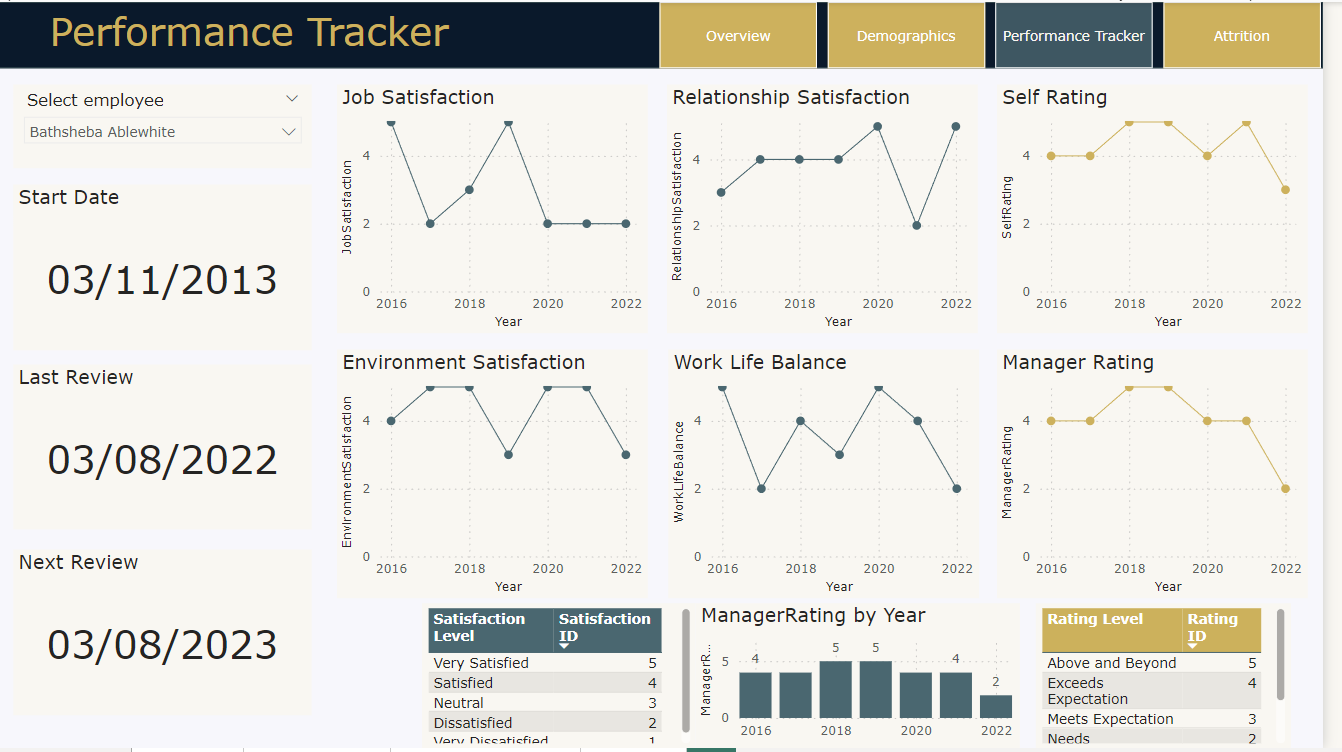

What the dashboard file says about the page in this screenshot:
{"tool":"powerbi","page":{"name":"Performance Tracker","canvas":[1280,720],"ordinal":2},"visuals":[{"type":"shape","box":[0,0,1280,64],"z":0},{"type":"textbox","box":[32,0,624,64],"z":1000},{"type":"pageNavigator","box":[640,0,640,64],"z":2000},{"type":"slicer","fields":{"Values":["DimEmployee.FullName"]},"box":[15.7,79.6,288.3,80.8],"z":3000},{"type":"card","title":"Start Date","fields":{"Values":["DimEmployee.HireDate"]},"box":[16,176,288,160],"z":4000},{"type":"card","title":"Last Review","fields":{"Values":["_Measures.LastReviewDate"]},"box":[15.7,349.9,288.3,159.3],"z":5000},{"type":"card","title":"Next Review","fields":{"Values":["_Measures.NextReviewDate"]},"box":[16,528,288,160],"z":6000},{"type":"lineChart","title":"Job Satisfaction","fields":{"Y":["_Measures.JobSatisfaction"],"Category":["DimDate.Year"]},"box":[328.3,79.8,300,240.3],"z":7000},{"type":"lineChart","title":"Relationship Satisfaction","fields":{"Y":["_Measures.RelationshipSatisfaction"],"Category":["DimDate.Year"]},"box":[646.9,79.8,300,240.3],"z":8000},{"type":"lineChart","title":"Self Rating","fields":{"Y":["_Measures.SelfRating"],"Category":["DimDate.Year"]},"box":[965.5,79.8,299.7,240.3],"z":9000},{"type":"lineChart","title":"Work Life Balance","fields":{"Y":["_Measures.WorkLifeBalance"],"Category":["DimDate.Year"]},"box":[647.4,335.5,299.7,240.3],"z":10000},{"type":"lineChart","title":"Manager Rating","fields":{"Y":["_Measures.ManagerRating"],"Category":["DimDate.Year"]},"box":[965.5,335.5,299.7,240.3],"z":11000},{"type":"lineChart","title":"Environment Satisfaction","fields":{"Y":["_Measures.EnvironmentSatisfaction"],"Category":["DimDate.Year"]},"box":[328.3,335.5,300,240.3],"z":12000},{"type":"tableEx","fields":{"Values":["DimRatingLevel.RatingLevel","DimRatingLevel.RatingID"]},"box":[1002.6,580.3,246.1,139.9],"z":13000},{"type":"tableEx","fields":{"Values":["DimSatisfiedLevel.SatisfactionLevel","DimSatisfiedLevel.SatisfactionID"]},"box":[410.2,580.3,264.2,139.9],"z":14000},{"type":"clusteredColumnChart","fields":{"Y":["_Measures.ManagerRating"],"Category":["DimDate.Year"]},"box":[674.4,580.3,312.5,139.9],"z":15000}]}

Visuals, with their boxes in screenshot pixels (x1, y1, x2, y2), scaled from the page's 1280x720 canvas onto the 1342x752 screenshot:
shape: 0,0,1341,67
textbox: 34,0,688,67
pageNavigator: 671,0,1341,67
slicer - DimEmployee.FullName: 16,83,319,168
"Start Date" card: 17,184,319,351
"Last Review" card: 16,365,319,532
"Next Review" card: 17,551,319,719
"Job Satisfaction" lineChart: 344,83,659,334
"Relationship Satisfaction" lineChart: 678,83,993,334
"Self Rating" lineChart: 1012,83,1326,334
"Work Life Balance" lineChart: 679,350,993,601
"Manager Rating" lineChart: 1012,350,1326,601
"Environment Satisfaction" lineChart: 344,350,659,601
tableEx - DimRatingLevel.RatingLevel x DimRatingLevel.RatingID: 1051,606,1309,751
tableEx - DimSatisfiedLevel.SatisfactionLevel x DimSatisfiedLevel.SatisfactionID: 430,606,707,751
clusteredColumnChart - _Measures.ManagerRating x DimDate.Year: 707,606,1035,751
